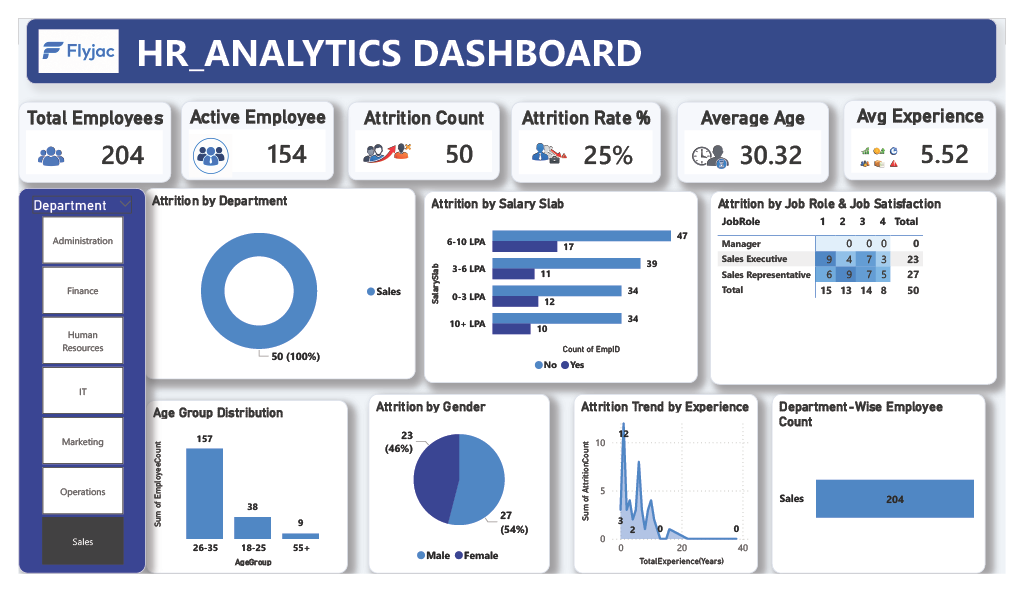

Layout of this report page (visuals, bound fields, positions):
{"tool":"powerbi","page":{"name":"Page 1","canvas":[1280,720],"ordinal":0},"visuals":[{"type":"textbox","box":[10,0,1259,85],"z":0},{"type":"image","box":[26.1,0,104.3,85.1],"z":1000},{"type":"cardVisual","title":"Total Employees","fields":{"Data":["CountNonNull(HR_Analytics.EmpID)"]},"box":[0,108.4,197.6,104.3],"z":2000},{"type":"cardVisual","title":"Attrition Count","fields":{"Data":["Sum(HR_Analytics.AttritionCount)"]},"box":[426.8,108.4,197.6,101.5],"z":3000},{"type":"cardVisual","title":"Attrition Rate %","fields":{"Data":["HR_Analytics.Attrition Rate %"]},"box":[639.5,108.4,193.5,104.3],"z":4000},{"type":"cardVisual","title":"Average Age","fields":{"Data":["Avg(HR_Analytics.Age)"]},"box":[853.5,108.4,197.6,104.3],"z":5000},{"type":"cardVisual","title":"Avg Experience","fields":{"Data":["Avg(HR_Analytics.YearsatCompany)"]},"box":[1070.3,105.7,197.6,104.3],"z":6000},{"type":"cardVisual","title":"Active Employee","fields":{"Data":["CountNonNull(HR_Analytics.EmployeeCount)"]},"box":[211.3,107,197.6,102.9],"z":7000},{"type":"image","box":[0,135.8,89.2,87.8],"z":8000},{"type":"image","box":[220.9,145.5,56.3,64.5],"z":9000},{"type":"image","box":[441.9,135.8,72.7,76.8],"z":10000},{"type":"image","box":[657.3,138.6,63.1,71.4],"z":11000},{"type":"image","box":[864.5,140,65.9,79.6],"z":12000},{"type":"image","box":[1082.7,145.5,65.9,68.6],"z":13000},{"type":"donutChart","title":"Attrition by Department","fields":{"Category":["HR_Analytics.Department"],"Y":["Sum(HR_Analytics.AttritionCount)"]},"box":[163.3,219.6,351.3,248.4],"z":14000},{"type":"clusteredBarChart","title":"Attrition by Salary Slab","fields":{"Category":["HR_Analytics.SalarySlab"],"Y":["CountNonNull(HR_Analytics.EmpID)"],"Series":["HR_Analytics.Attrition"]},"box":[525.6,223.7,355.4,249.7],"z":15000},{"type":"pivotTable","title":"Attrition by Job Role & Job Satisfaction","fields":{"Rows":["HR_Analytics.JobRole"],"Values":["Sum(HR_Analytics.AttritionCount)"],"Columns":["HR_Analytics.JobSatisfaction"]},"box":[897.4,223.7,371.9,251.1],"z":16000},{"type":"columnChart","title":"Age Group Distribution","fields":{"Category":["HR_Analytics.AgeGroup"],"Y":["Sum(HR_Analytics.EmployeeCount)"]},"box":[164.7,495.4,262.1,225],"z":17000},{"type":"pieChart","title":"Attrition by Gender","fields":{"Category":["HR_Analytics.Gender"],"Y":["Sum(HR_Analytics.AttritionCount)"]},"box":[454.2,487.1,234.6,233.3],"z":18000},{"type":"areaChart","title":"Attrition Trend by Experience","fields":{"Category":["HR_Analytics.TotalExperience(Years)"],"Y":["Sum(HR_Analytics.AttritionCount)"]},"box":[720.4,487.1,238.8,233.3],"z":19000},{"type":"funnel","title":"Department-Wise Employee Count","fields":{"Category":["HR_Analytics.Department"],"Y":["CountNonNull(HR_Analytics.EmpID)"]},"box":[977,487.1,277.2,233.3],"z":20000},{"type":"slicer","fields":{"Values":["HR_Analytics.Department"]},"box":[0,219.6,164.7,500.9],"z":22000}]}

Visuals, with their boxes in screenshot pixels (x1, y1, x2, y2), scaled from the page's 1280x720 canvas onto the 1024x592 screenshot:
textbox: 8 0 1015 70
image: 21 0 104 70
"Total Employees" cardVisual: 0 89 158 175
"Attrition Count" cardVisual: 341 89 500 173
"Attrition Rate %" cardVisual: 512 89 666 175
"Average Age" cardVisual: 683 89 841 175
"Avg Experience" cardVisual: 856 87 1014 173
"Active Employee" cardVisual: 169 88 327 173
image: 0 112 71 184
image: 177 120 222 173
image: 354 112 412 175
image: 526 114 576 173
image: 692 115 744 181
image: 866 120 919 176
"Attrition by Department" donutChart: 131 181 412 385
"Attrition by Salary Slab" clusteredBarChart: 420 184 705 389
"Attrition by Job Role & Job Satisfaction" pivotTable: 718 184 1015 390
"Age Group Distribution" columnChart: 132 407 341 591
"Attrition by Gender" pieChart: 363 401 551 591
"Attrition Trend by Experience" areaChart: 576 401 767 591
"Department-Wise Employee Count" funnel: 782 401 1003 591
slicer - HR_Analytics.Department: 0 181 132 591
